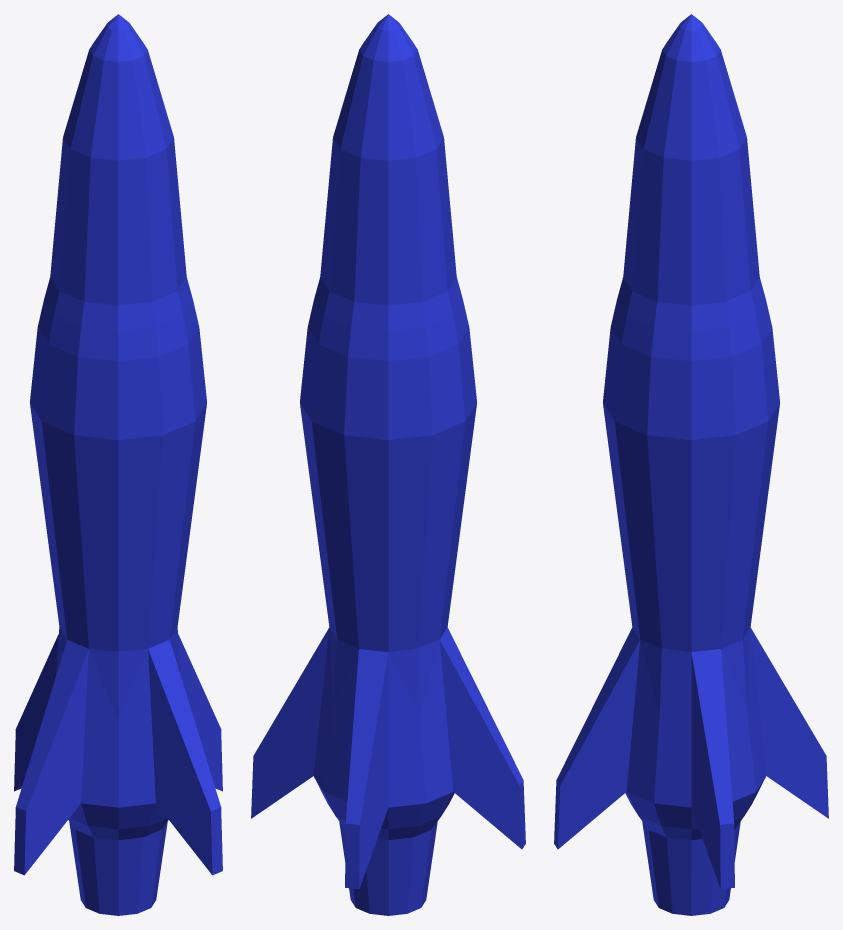
The model's file is Missile 2.fbx.
The picture shows the model from 3 angles, left to right: view 1: azimuth 30°, elevation 25°; view 2: azimuth 150°, elevation 25°; view 3: azimuth 270°, elevation 25°; orthographic projection.
Parts seen in each view (by area): view 1: Cube.005; view 2: Cube.005; view 3: Cube.005.
Part boxes in pixels (x1=…): Cube.005: x1=14, y1=14, x2=222, y2=915; Cube.005: x1=251, y1=14, x2=525, y2=915; Cube.005: x1=554, y1=14, x2=828, y2=915.
Size of the model in its own units: 289 by 1026 by 289.
